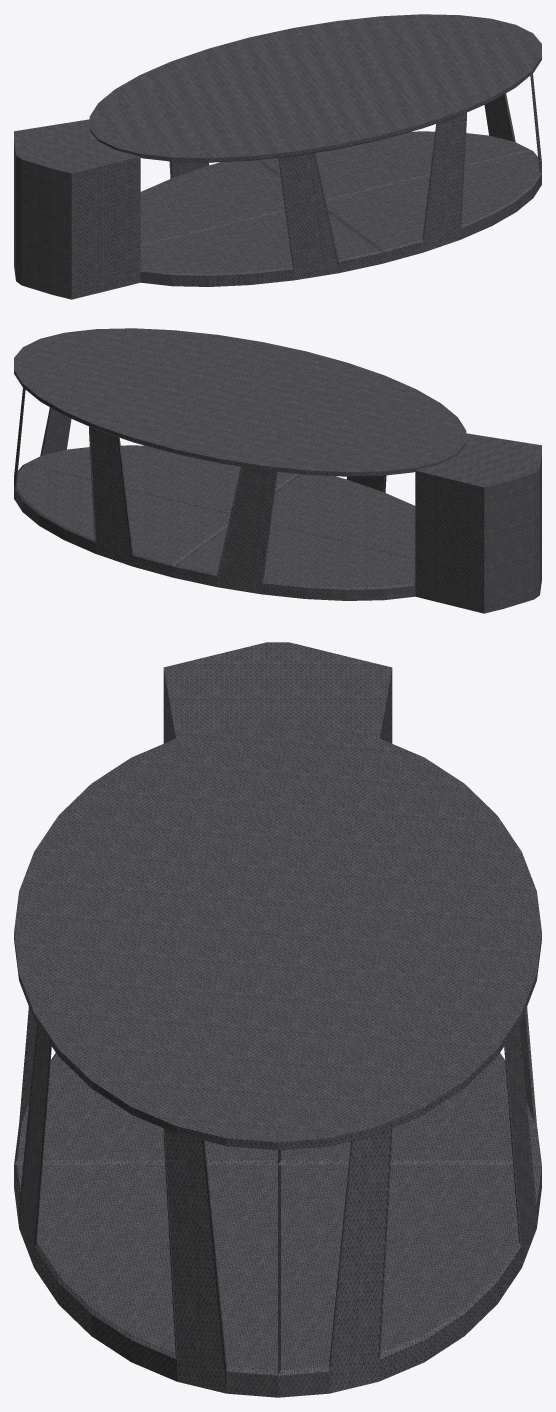
The model's file is Submarine Interior main.fbx.
The picture shows the model from 3 angles, top to bottom: view 1: azimuth 30°, elevation 25°; view 2: azimuth 150°, elevation 25°; view 3: azimuth 270°, elevation 25°; orthographic projection. The views are drawn at different scales.
Parts seen in each view (by area): view 1: Main; view 2: Main; view 3: Main.
Part boxes in pixels (x1=…): Main: x1=14, y1=14, x2=541, y2=299; Main: x1=14, y1=328, x2=541, y2=613; Main: x1=14, y1=642, x2=541, y2=1397.
Size of the model in its own units: 1103 by 267 by 495.
